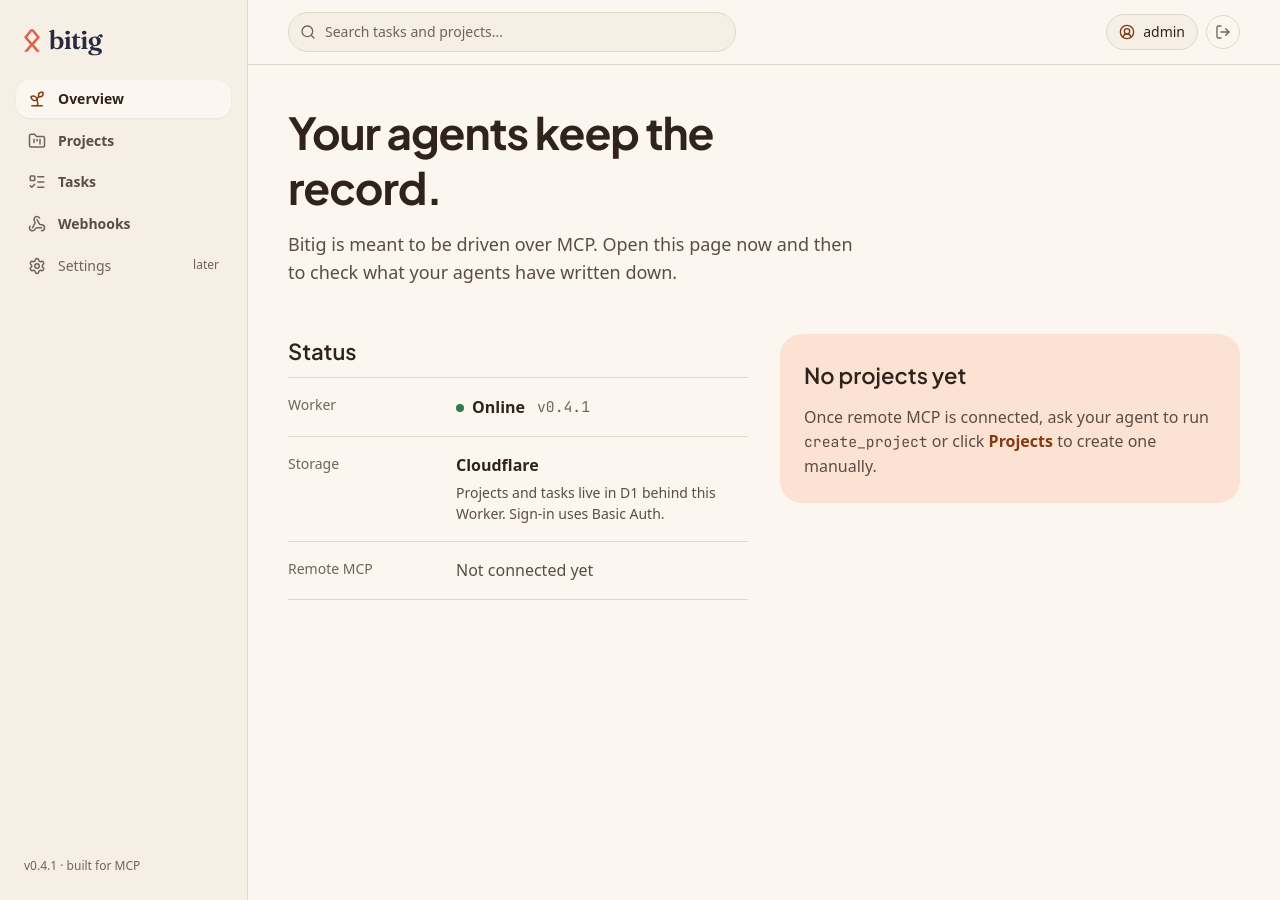
Dashboard Phase 4 Integration › supports creating a project
The image size is (1280, 900).
Note: Navigate to Projects
Click the link "Projects" at (71, 140), box [28, 131, 114, 150]
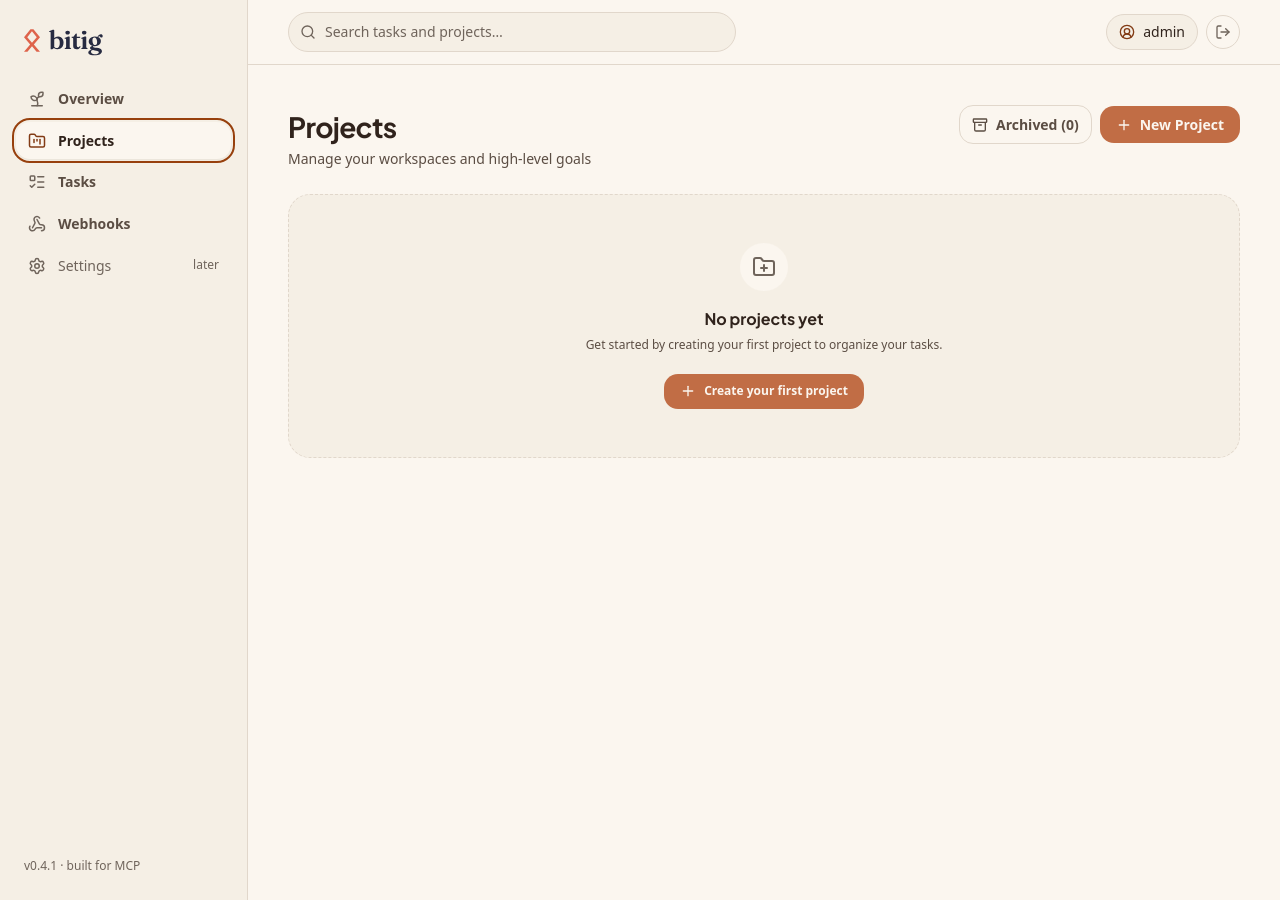
Expected: the heading "Projects" is shown, [288, 109, 396, 144]
Note: Click New Project
Click the button "New Project" at (1170, 125), box [1100, 106, 1240, 143]
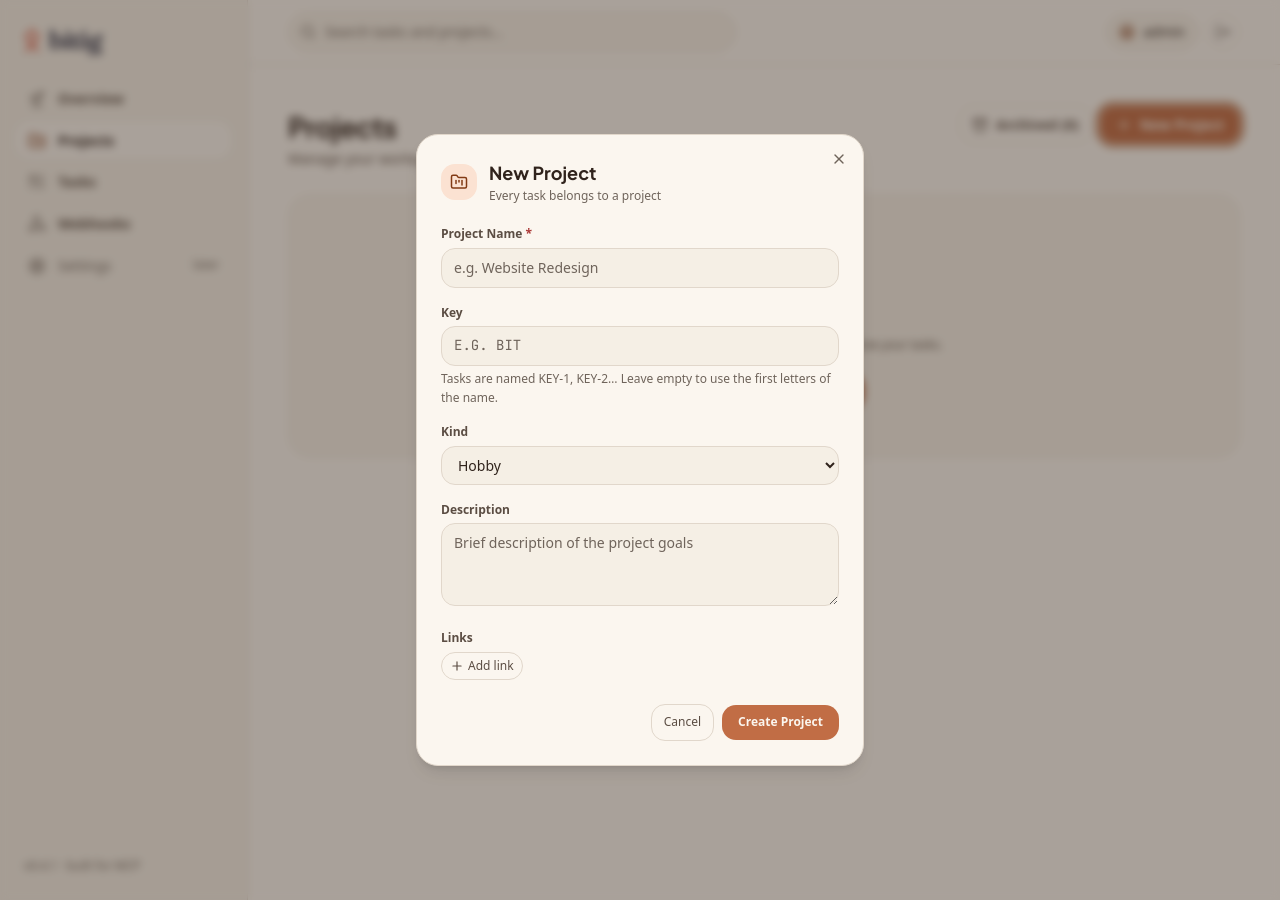
Expected: the heading "New Project" is shown, [489, 161, 596, 184]
Note: Fill project form
Type "Bitig Core" into the field labelled "Project Name *" at (640, 268), box [441, 248, 839, 288]
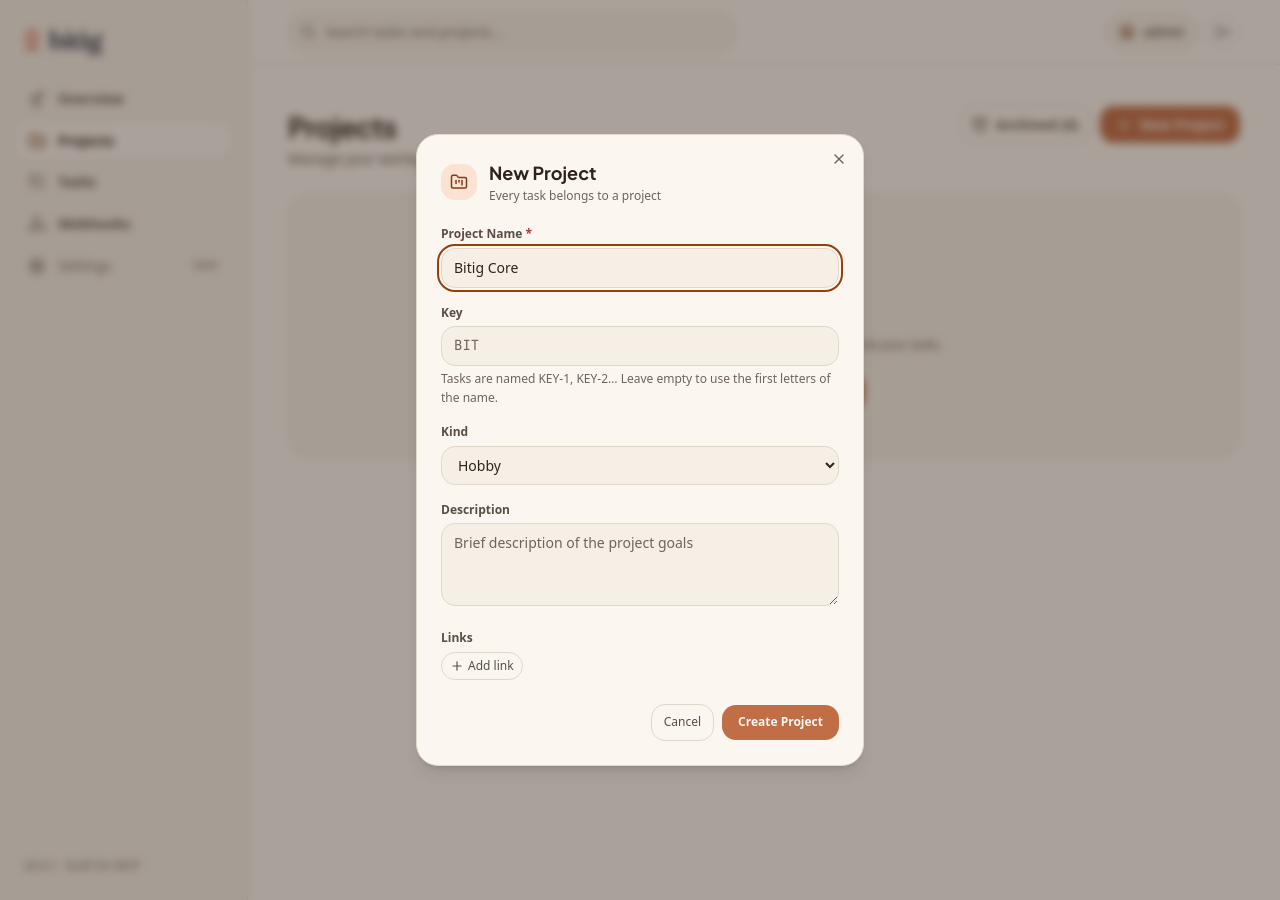
Type "Domain types and schemas" into the text box labelled "Description" at (640, 565), box [441, 523, 839, 606]
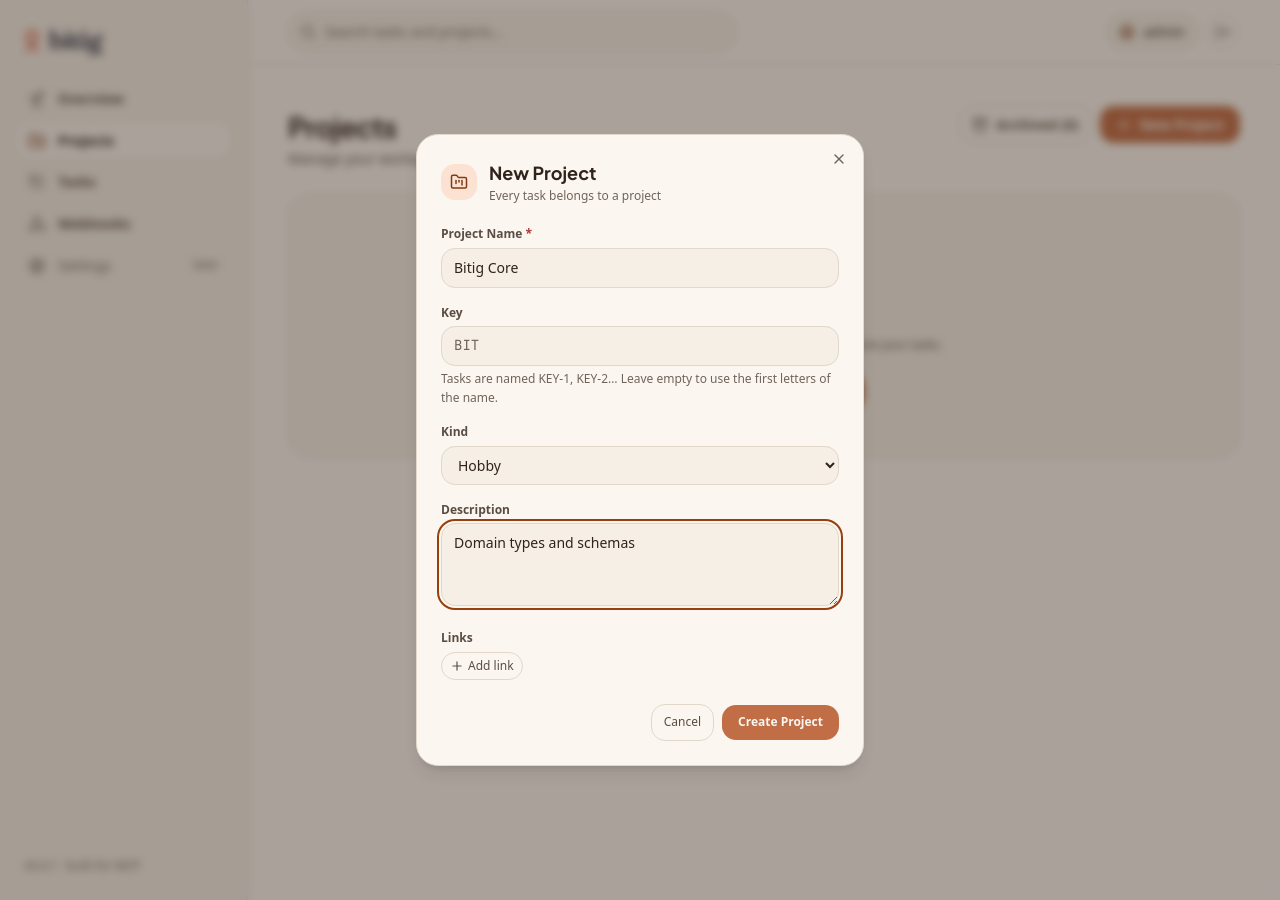
Note: Submit form
Click the button "Create Project" at (781, 723), box [722, 705, 839, 740]
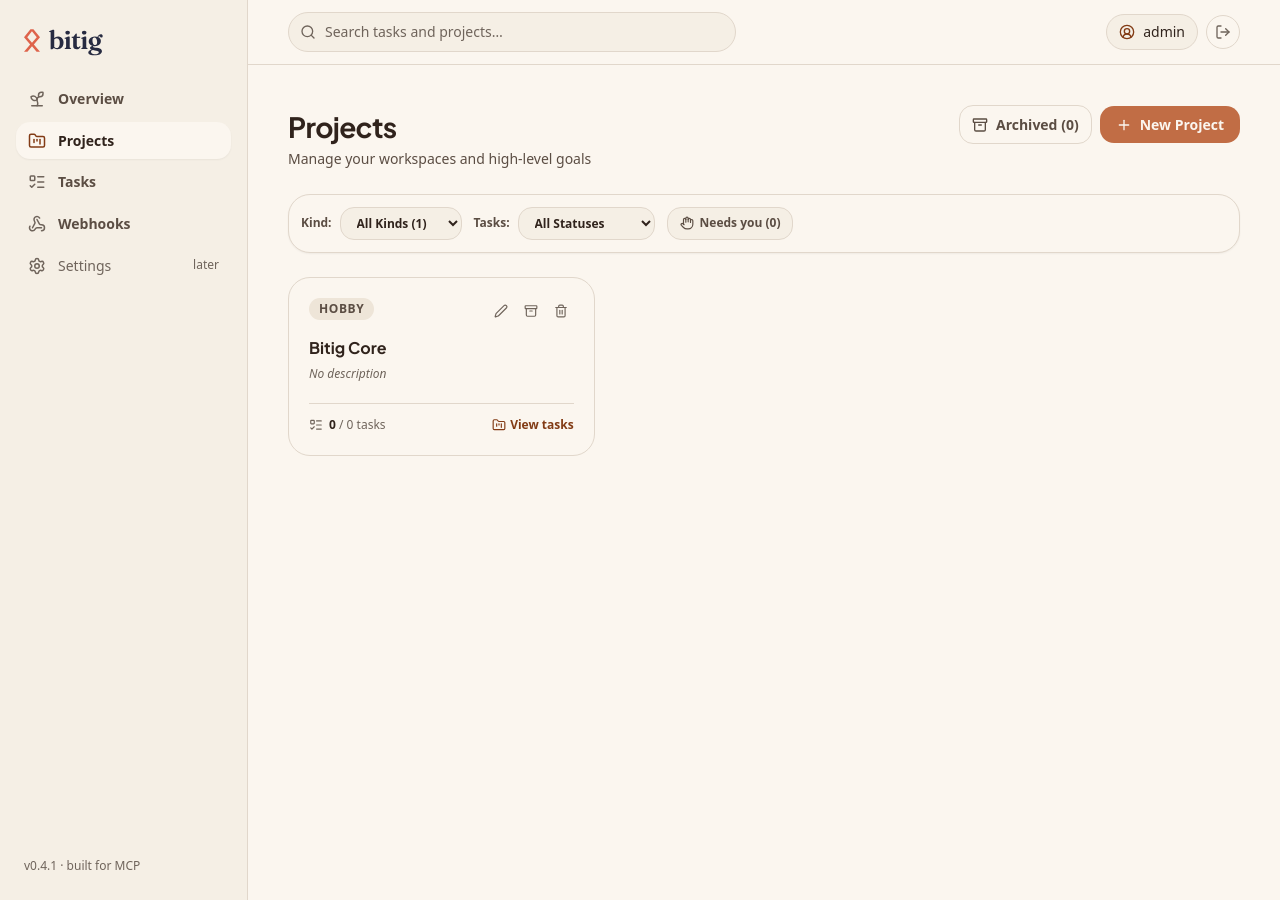
Expected: the button "Bitig Core" is shown, [309, 336, 386, 361]
Expected: the text "hobby" is shown, [309, 298, 374, 320]
